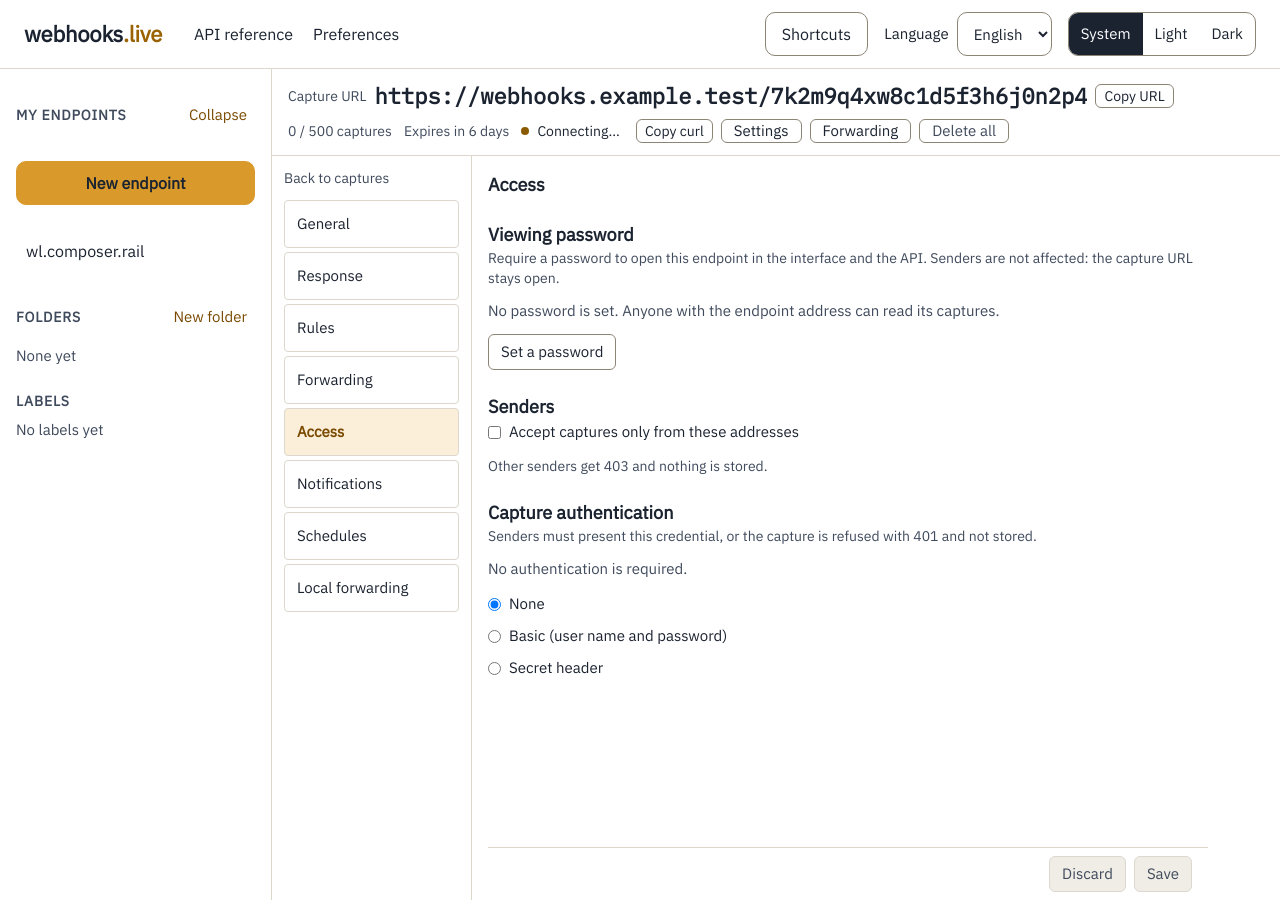
viewing password › asks twice, sends the password once, and keeps it out of caches, storage, and the URL
Click the button "Set a password" at (552, 352), box x1=488 y1=334 x2=616 y2=370
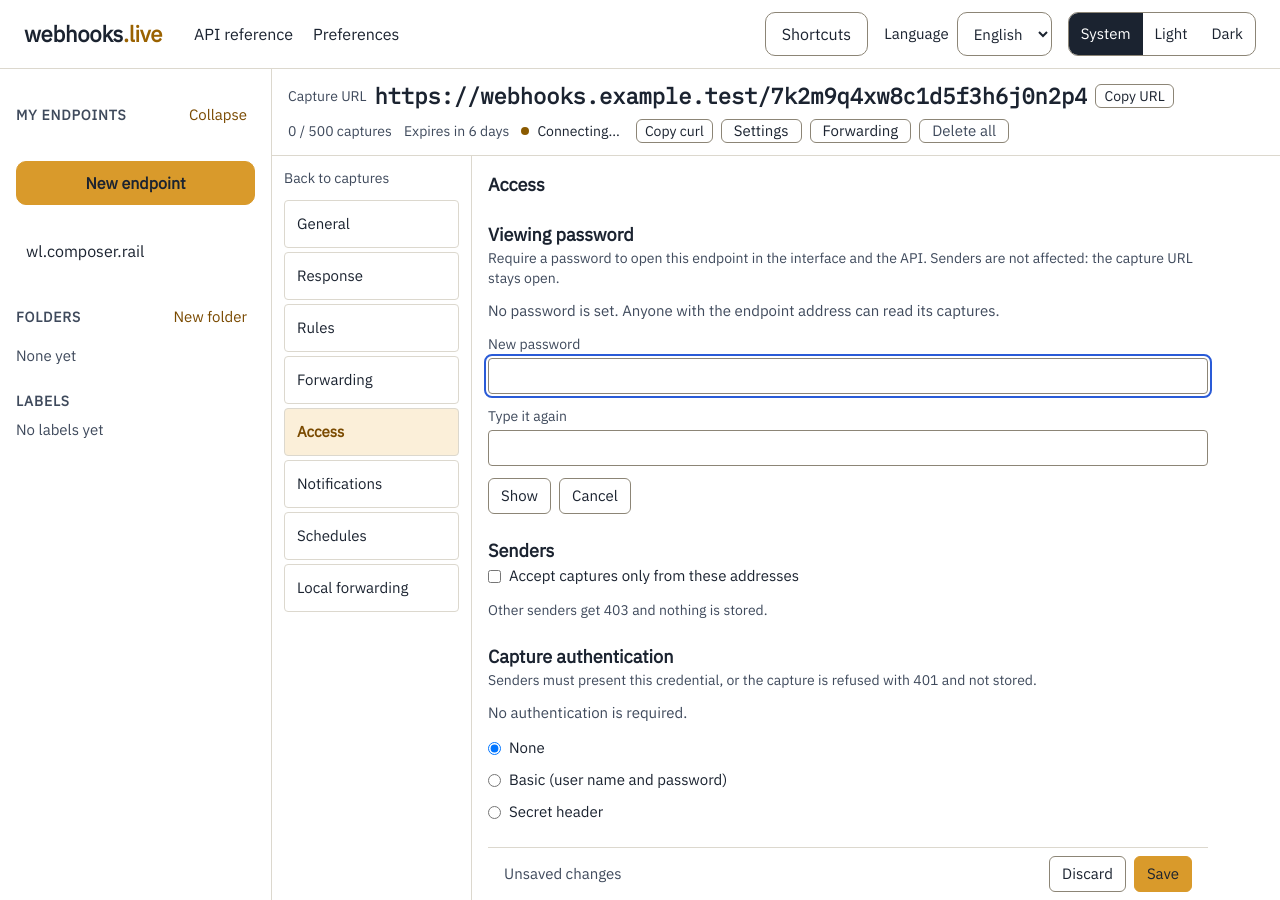
Type "placeholder-pass-1" into the password field labelled "New password" at (848, 376), box x1=488 y1=358 x2=1208 y2=394
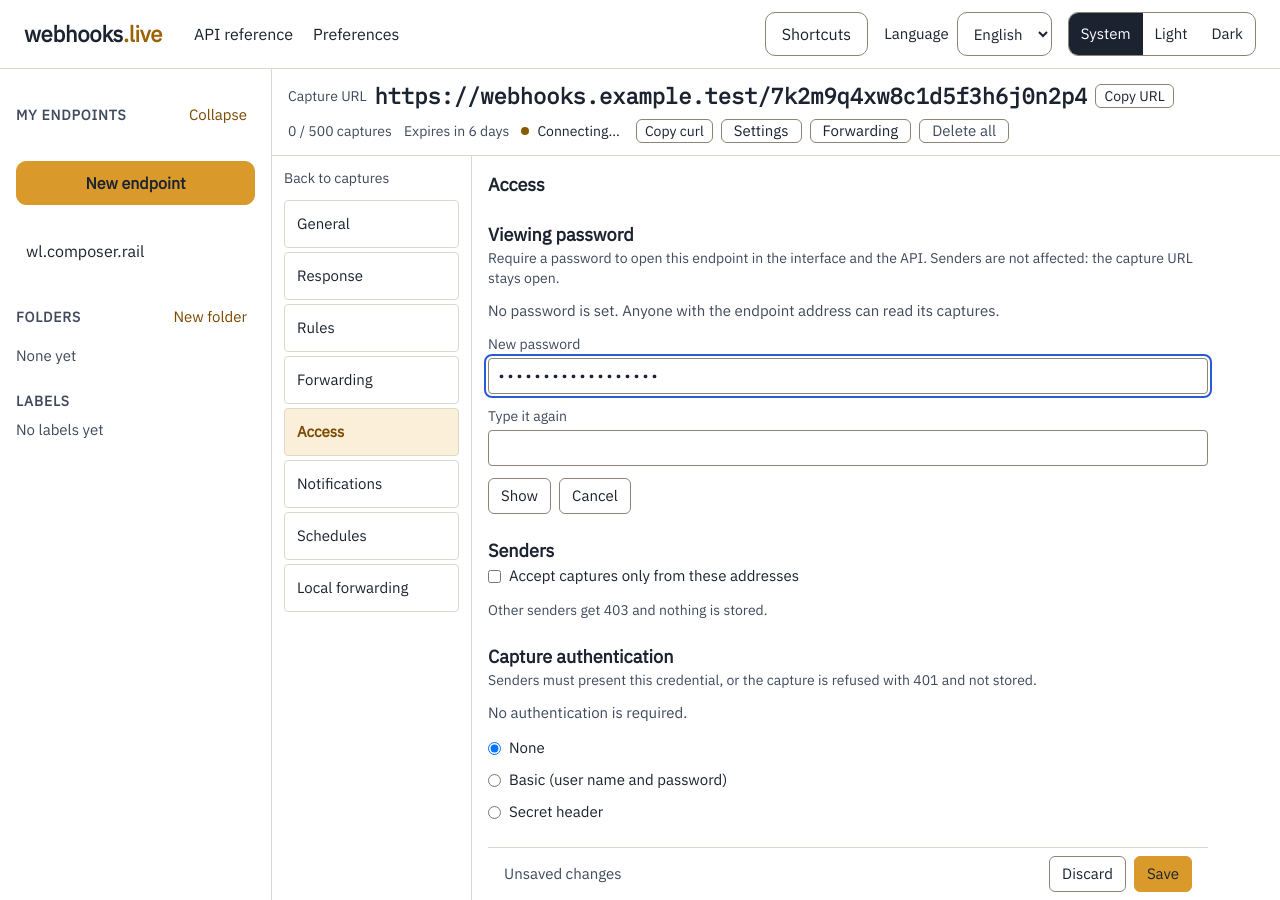
Type "placeholder-pass-1" into the password field labelled "Type it again" at (848, 448), box x1=488 y1=430 x2=1208 y2=466
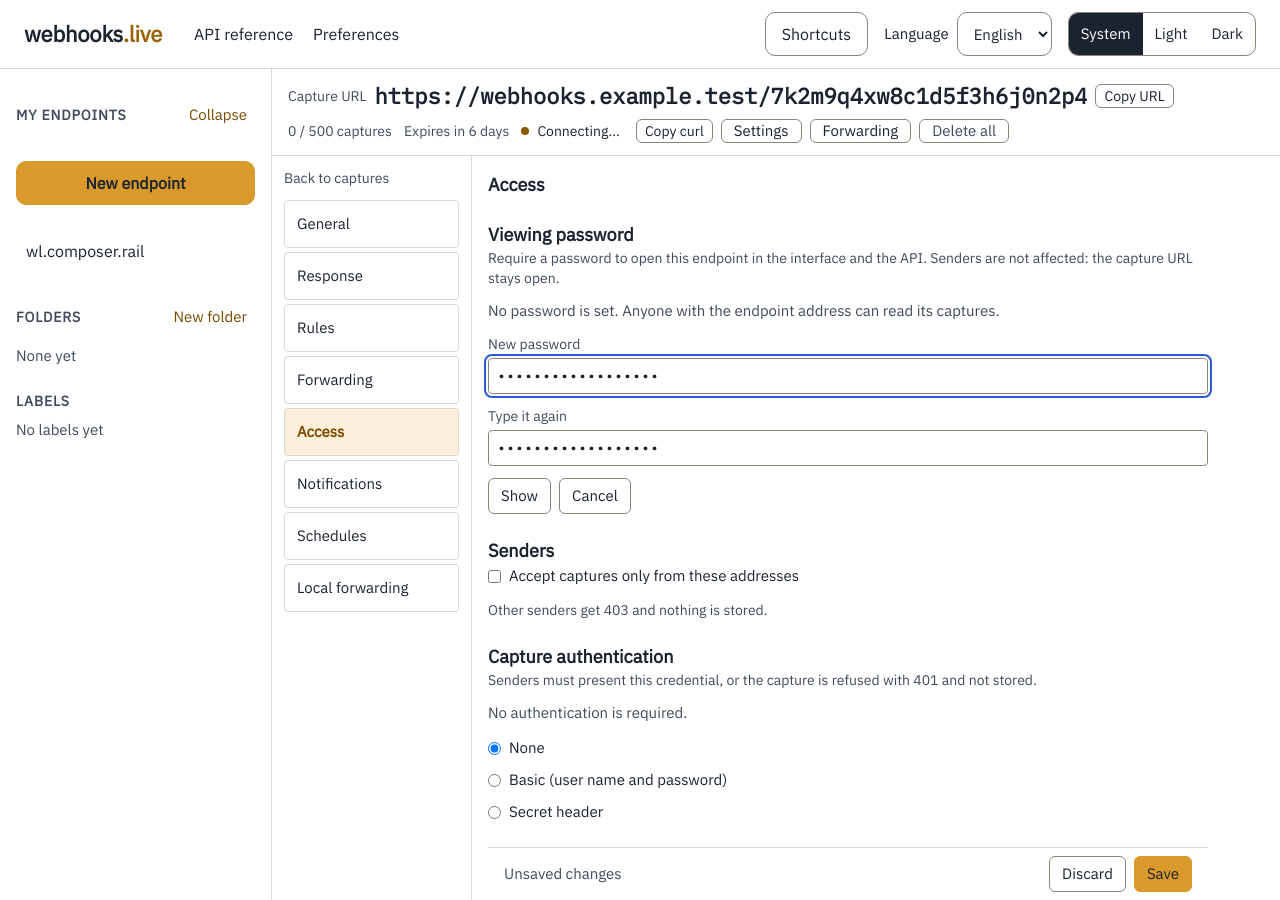
Click the button "Save" at (1163, 874), box x1=1134 y1=856 x2=1192 y2=892
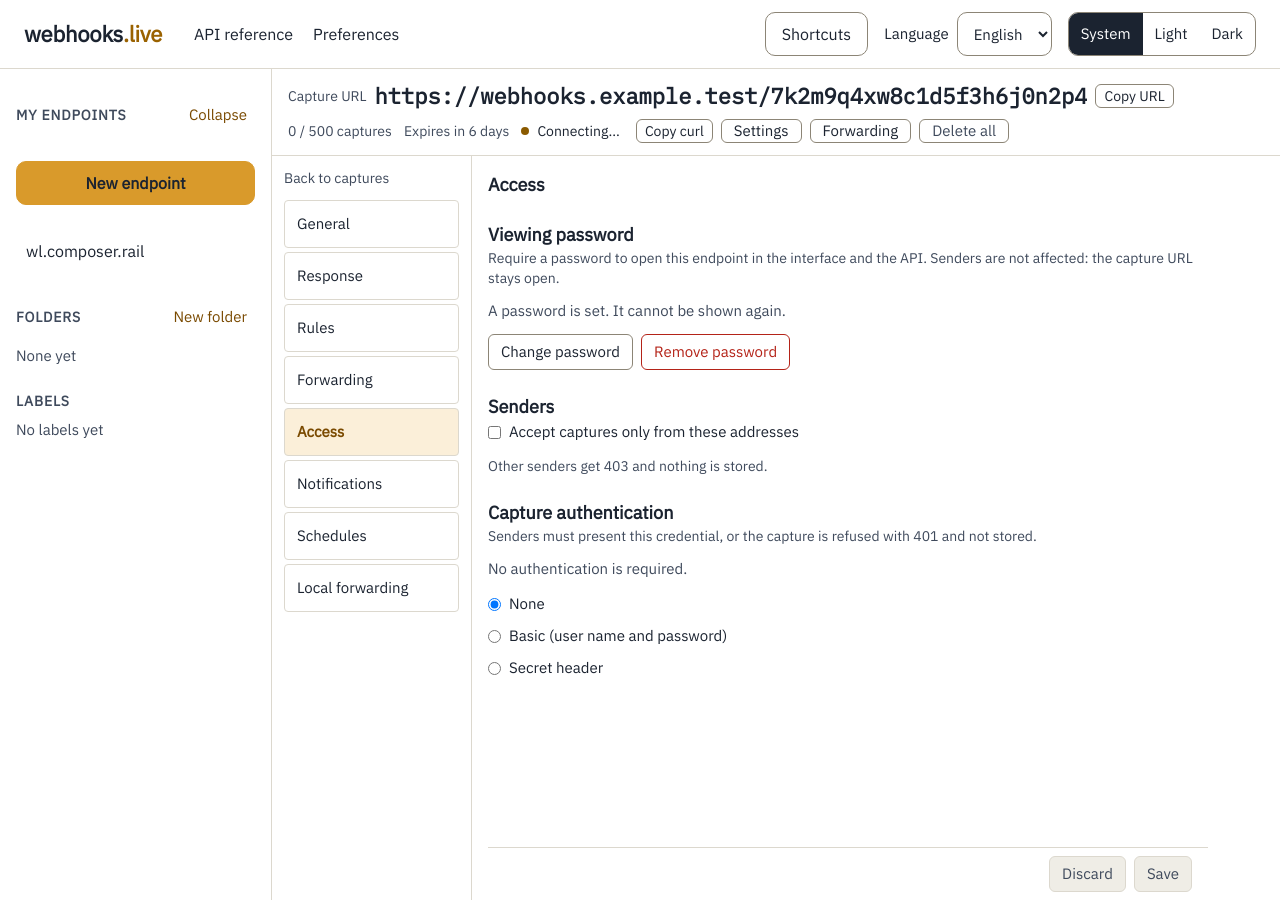
Expected: the text "A password is set. It cannot be shown again." is shown, x1=488 y1=301 x2=786 y2=320
Expected: the label labelled "New password" is gone
